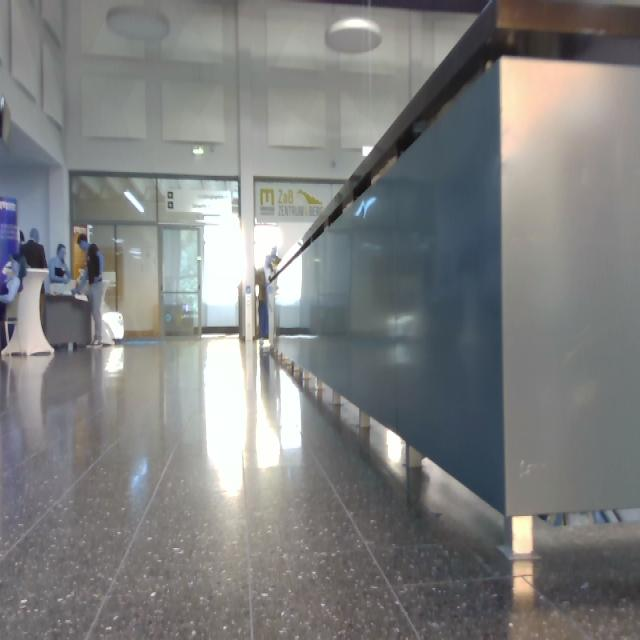desk: (41, 293, 91, 346)
light bulb: (107, 6, 170, 42), (326, 18, 382, 54), (126, 190, 145, 213)
person: (78, 236, 103, 345), (1, 253, 27, 353), (256, 248, 277, 340), (20, 229, 47, 269), (49, 245, 70, 284)
staircase: (271, 1, 640, 556)
table: (4, 268, 54, 356)
tiled floor: (1, 340, 640, 640)
